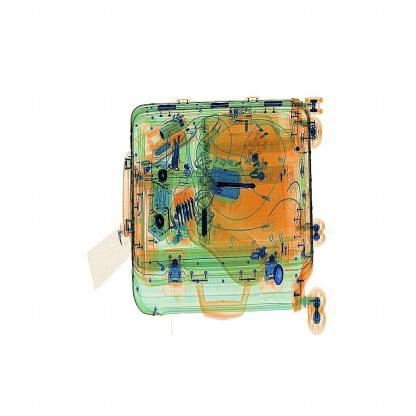knife: (214, 164, 274, 204)
